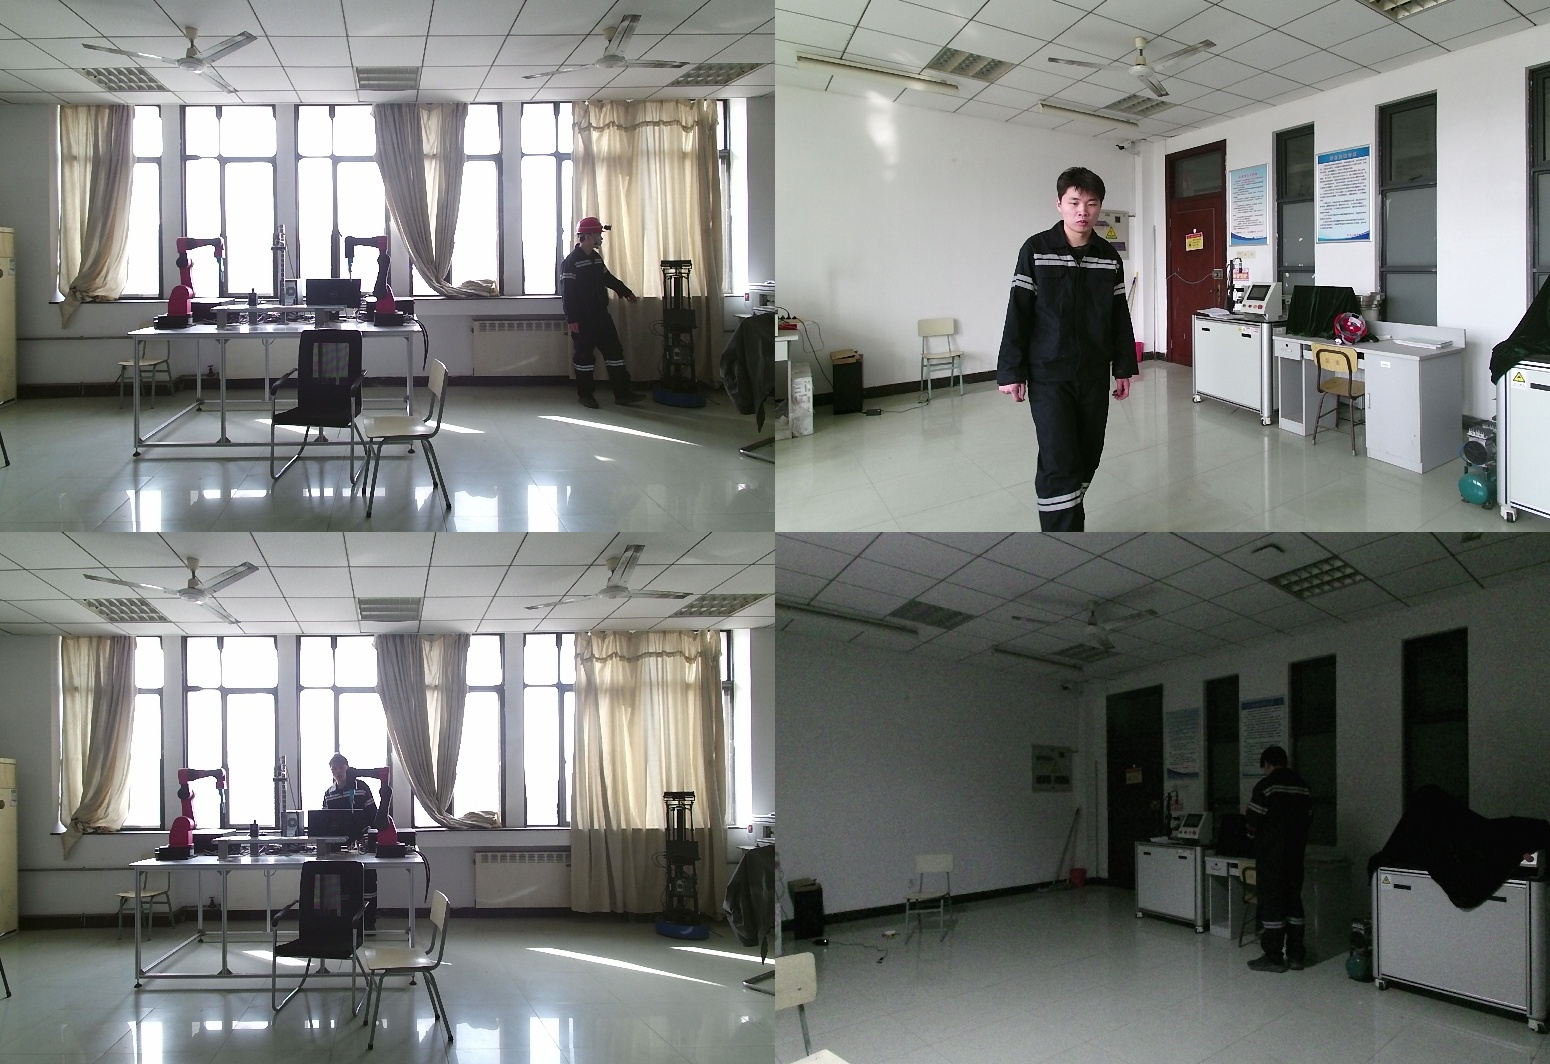person: (999, 168, 1137, 532), (1244, 746, 1338, 969), (559, 218, 652, 419), (315, 755, 381, 935)
